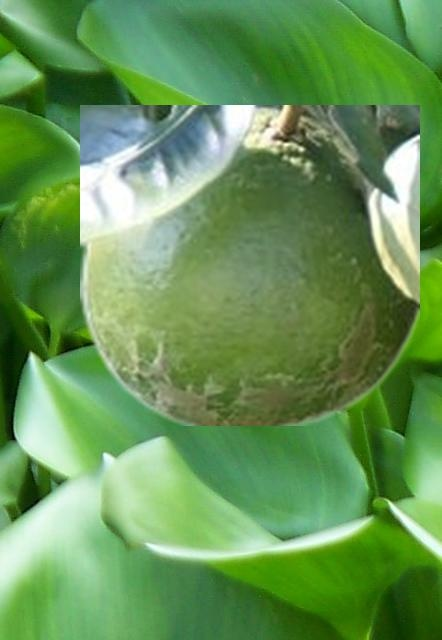dalandan: (80, 105, 418, 424)
